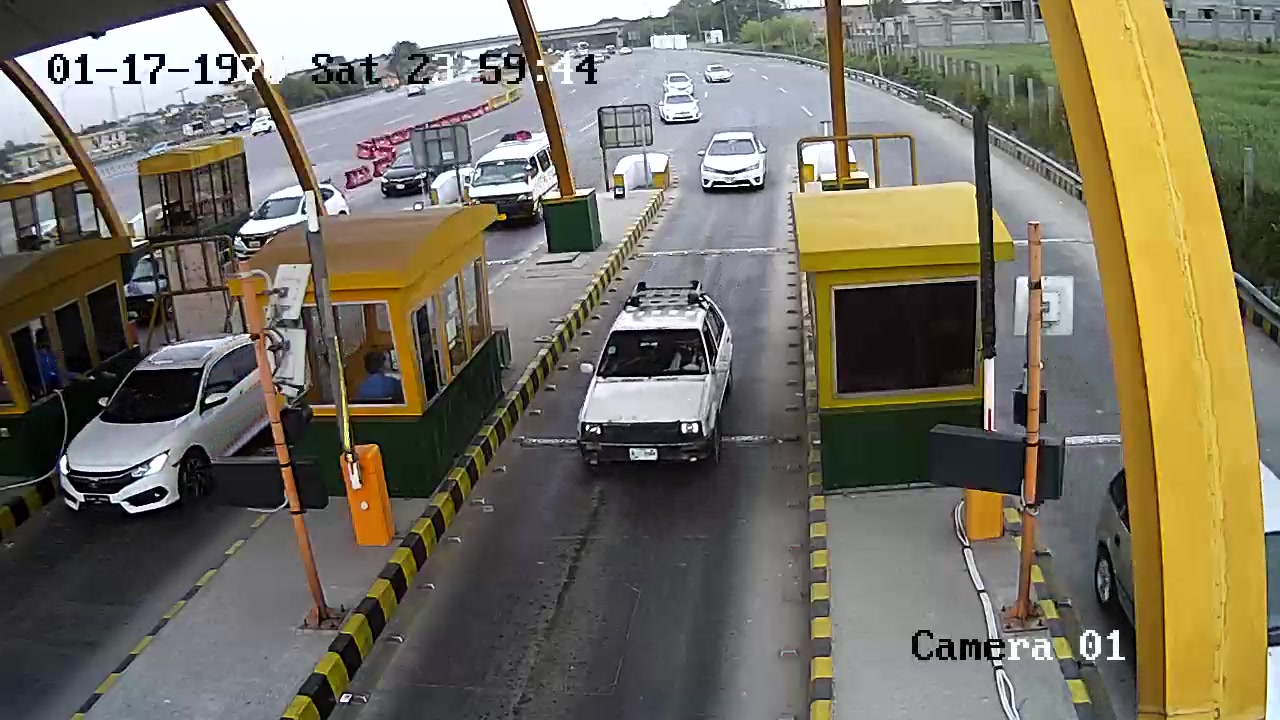F1: (573, 281, 751, 486)
